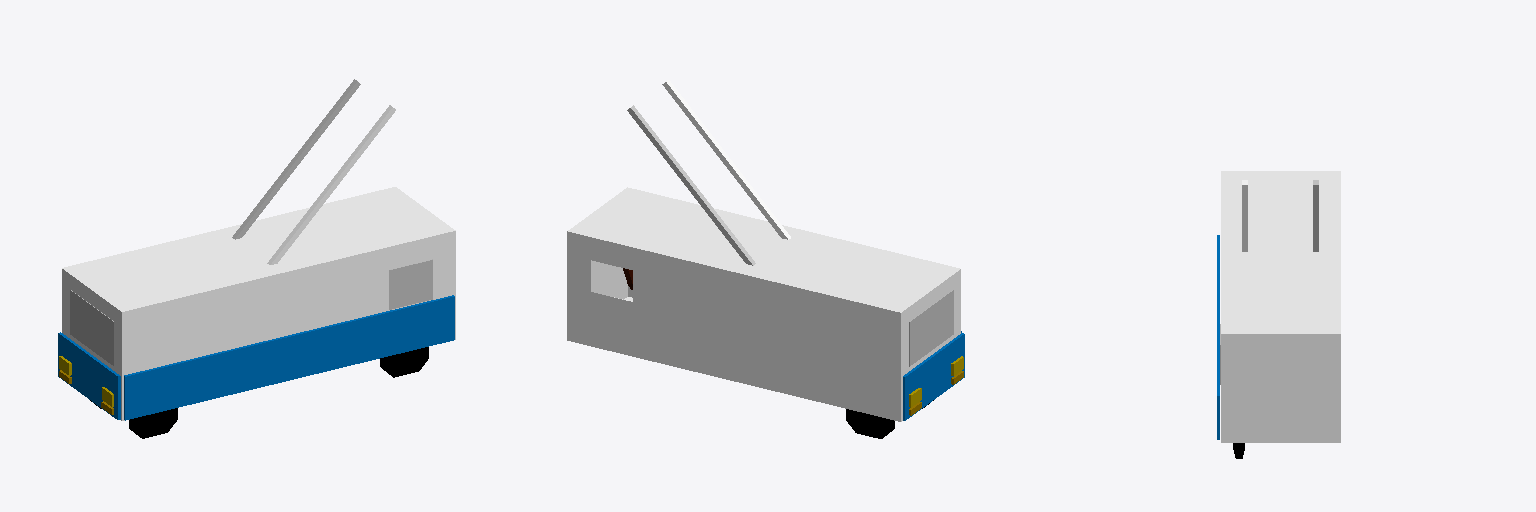
File: TrolleyBus.obj
3 views of the same model, side by side, from view 1: azimuth 30°, elevation 25°; view 2: azimuth 150°, elevation 25°; view 3: azimuth 270°, elevation 25° (orthographic).
Visible parts, largest first — view 1: Cube_Cube.001, Cube.005_Cube.030, Cube.006_Cube.031, Cube.001_Cube.025, Cube.003_Cube.027, Cube.008_Cube.034, Cube.009_Cube.035, RightFrontWheel_Cube.012, RightBackWhell_Cube.014; view 2: Cube_Cube.001, Cube.006_Cube.031, Cube.001_Cube.025, Cube.009_Cube.035, Cube.008_Cube.034, LeftFrontWheel_Cube.013; view 3: Cube_Cube.001, Cube.005_Cube.030.
Boxes of the visible parts, box(x1,y1,x2,y2) form: Cube_Cube.001: box(62, 187, 455, 420); Cube.005_Cube.030: box(124, 295, 454, 420); Cube.006_Cube.031: box(58, 332, 120, 419); Cube.001_Cube.025: box(70, 290, 113, 365); Cube.003_Cube.027: box(389, 260, 432, 309); Cube.008_Cube.034: box(232, 79, 360, 239); Cube.009_Cube.035: box(267, 105, 395, 264); RightFrontWheel_Cube.012: box(129, 408, 177, 438); RightBackWhell_Cube.014: box(380, 347, 428, 377); Cube_Cube.001: box(567, 187, 960, 421); Cube.006_Cube.031: box(903, 333, 964, 420); Cube.001_Cube.025: box(909, 290, 953, 366); Cube.009_Cube.035: box(662, 80, 790, 239); Cube.008_Cube.034: box(627, 105, 755, 265); LeftFrontWheel_Cube.013: box(846, 409, 894, 438); Cube_Cube.001: box(1221, 171, 1340, 442); Cube.005_Cube.030: box(1217, 235, 1219, 439).
Bounding box in the file's own units: 6.57 × 4.94 × 2.11.